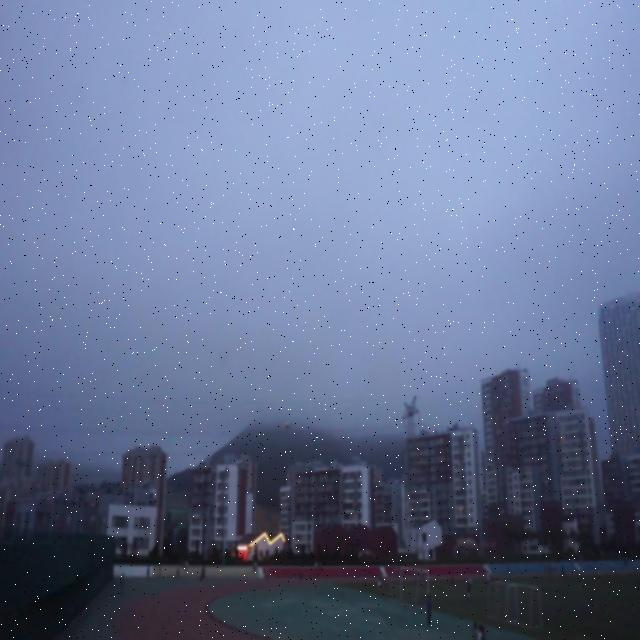UAV: (284, 422, 290, 429)
